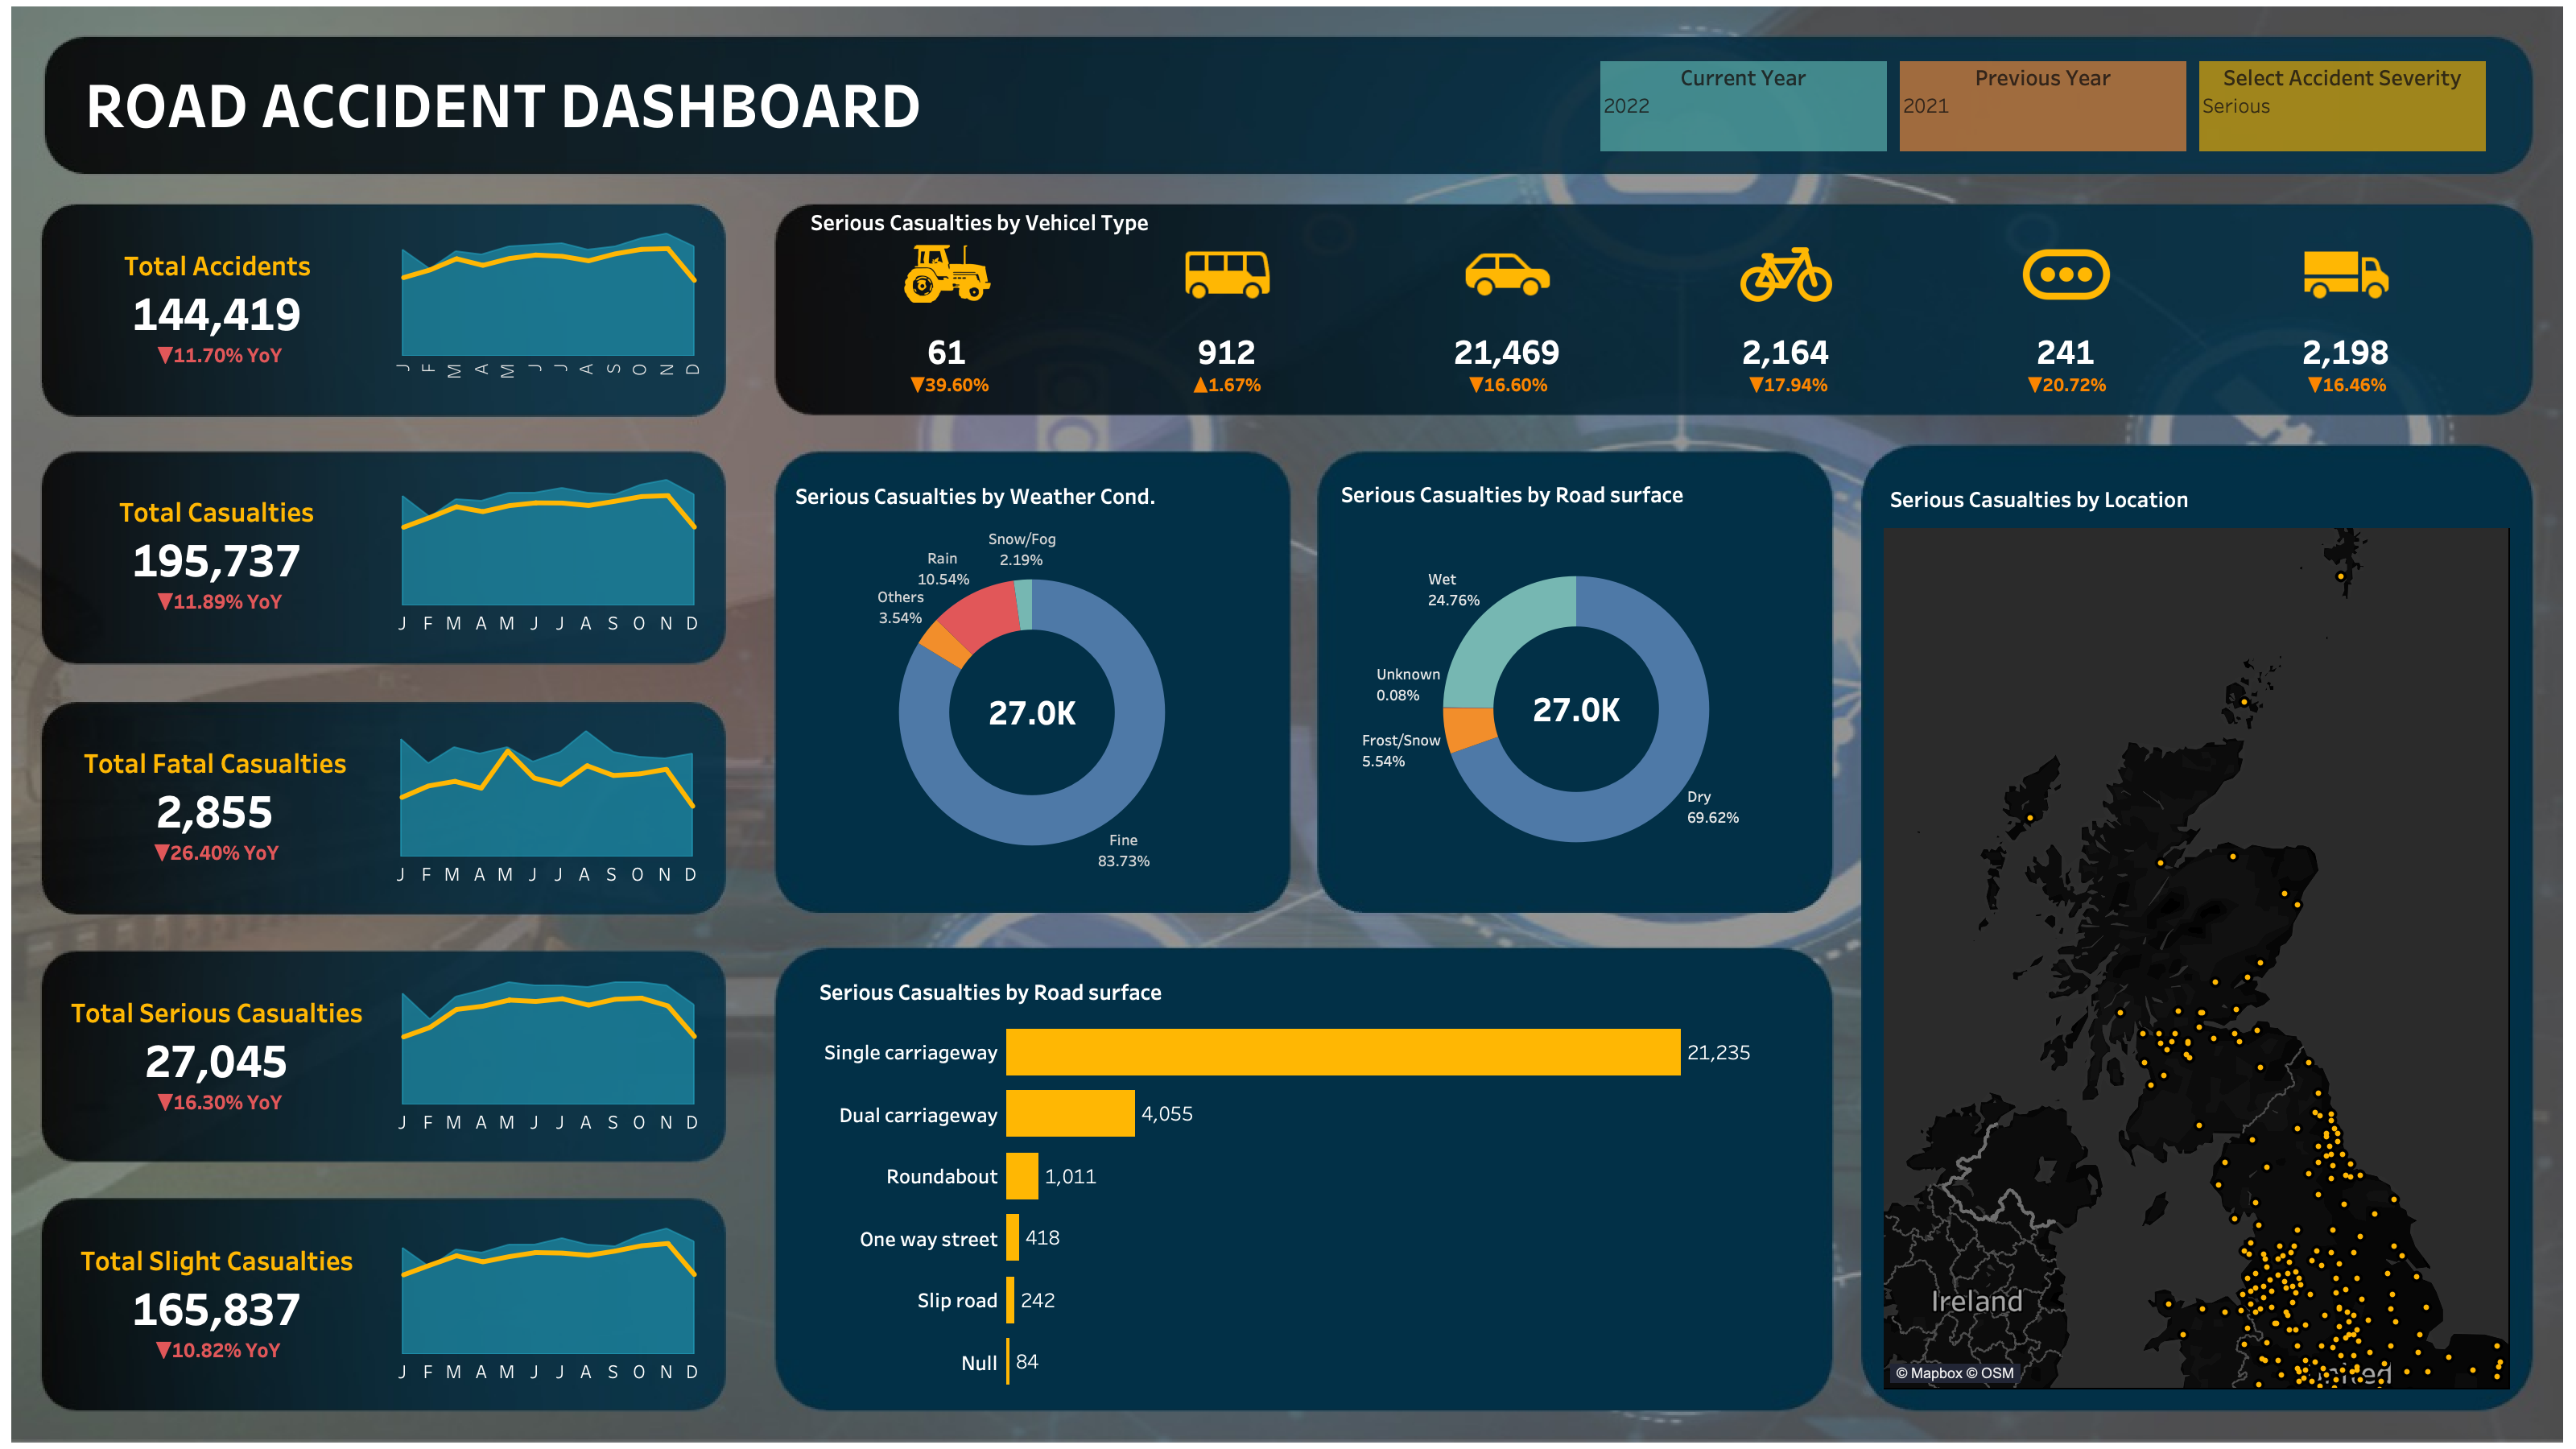

Layout of this report page (visuals, bound fields, positions):
{"tool":"tableau","page":{"name":"Dashboard 1","canvas":[1600,900],"ordinal":0},"visuals":[{"type":"image","param":"/Users/azi/Documents/Projects/Road Accident Dashboard/Background_Road Accident.j","box":[0,0,1600,900]},{"type":"text","box":[50,34,546,60]},{"type":"parameter","param":"[Parameters].[Parameter 2]","box":[1394,36,160,44]},{"type":"text","box":[501,127,341,22]},{"type":"worksheet","title":"Total Accidents","mark":"Automatic","box":[33,137,205,110]},{"type":"worksheet","title":"Accident Sparkline","mark":"Automatic","rows":["Calculation_4510214295040532481 1","Calculation_4510214295040532481"],"cols":["Accident Date"],"box":[238,137,205,110]},{"type":"worksheet","title":"Vehicel Type Images","mark":"Shape","box":[498,147,1050,41]},{"type":"worksheet","title":"Vehicel Type KPI","mark":"Automatic","box":[498,188,1050,59]},{"type":"worksheet","title":"Total Casualties","mark":"Automatic","box":[33,290,205,110]},{"type":"worksheet","title":"Total Casualties Sparkline","mark":"Automatic","rows":["CY Casualties (copy)_4510214295066169348","Calculation_4510214295064272899"],"cols":["Accident Date"],"box":[238,290,205,110]},{"type":"worksheet","title":"Road Surface","mark":"Pie","rows":["Calculation_6731614811634257921","Calculation_6731614811634401283"],"box":[829,292,300,264]},{"type":"worksheet","title":"Weather Condition","mark":"Pie","rows":["Calculation_6731614811634257921","Calculation_6731614811634401283"],"box":[487,293,309,259]},{"type":"worksheet","title":"Fetal Casualties","mark":"Automatic","box":[32,446,205,110]},{"type":"worksheet","title":"Fatal Sparkline","mark":"Automatic","rows":["CY Fetal Casualties (copy)_4510214295080927239","Calculation_4510214295078694918"],"cols":["Accident Date"],"box":[237,446,205,110]},{"type":"worksheet","title":"Serious Casualties ","mark":"Automatic","box":[33,602,205,108]},{"type":"worksheet","title":"Serious Sparkline","mark":"Automatic","rows":["CY Serious Casualties (copy)_4510214295085821962","CY Fetal Casualties (copy)_4510214295084302345"],"cols":["Accident Date"],"box":[238,602,205,108]},{"type":"worksheet","title":"Slight Casualties","mark":"Automatic","box":[33,755,205,110]},{"type":"worksheet","title":"Slight Sparkline","mark":"Automatic","rows":["CY Slight Casualties (copy)_4510214295087755276","CY Serious Casualties (copy)_4510214295086964747"],"cols":["Accident Date"],"box":[238,755,205,110]}]}

Visuals, with their boxes in screenshot pixels (x1, y1, x2, y2), scaled from the page's 1600x900 canvas onto the 2576x1449 screenshot:
image: region(0, 0, 2575, 1448)
text: region(80, 55, 960, 151)
parameter: region(2244, 58, 2502, 129)
text: region(807, 204, 1356, 240)
"Total Accidents" worksheet: region(53, 221, 383, 398)
"Accident Sparkline" worksheet: region(383, 221, 713, 398)
"Vehicel Type Images" worksheet (Shape marks): region(802, 237, 2492, 303)
"Vehicel Type KPI" worksheet: region(802, 303, 2492, 398)
"Total Casualties" worksheet: region(53, 467, 383, 644)
"Total Casualties Sparkline" worksheet: region(383, 467, 713, 644)
"Road Surface" worksheet (Pie marks): region(1335, 470, 1818, 895)
"Weather Condition" worksheet (Pie marks): region(784, 472, 1282, 889)
"Fetal Casualties" worksheet: region(52, 718, 382, 895)
"Fatal Sparkline" worksheet: region(382, 718, 712, 895)
"Serious Casualties " worksheet: region(53, 969, 383, 1143)
"Serious Sparkline" worksheet: region(383, 969, 713, 1143)
"Slight Casualties" worksheet: region(53, 1216, 383, 1393)
"Slight Sparkline" worksheet: region(383, 1216, 713, 1393)
